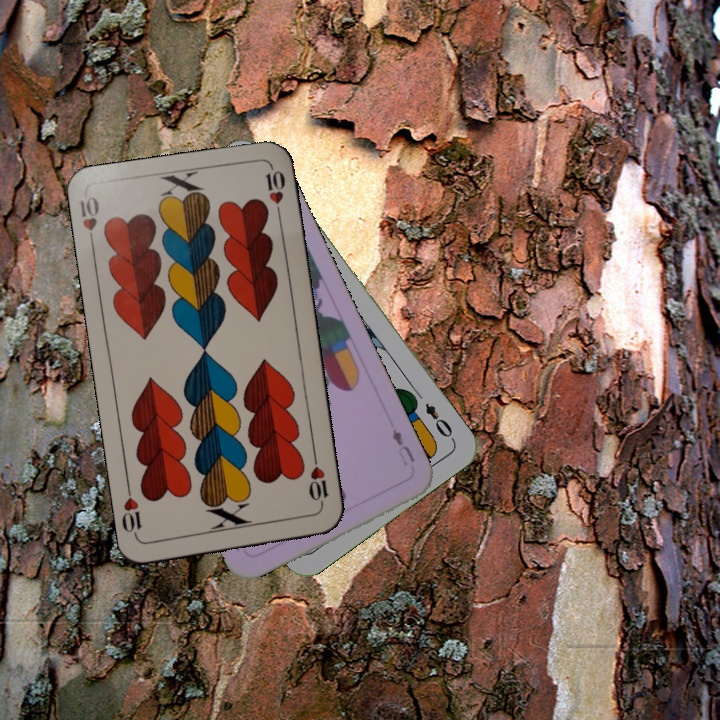EO: (421, 399, 458, 444)
EU: (387, 425, 418, 469)
H10: (304, 452, 331, 511), (75, 192, 102, 251)
